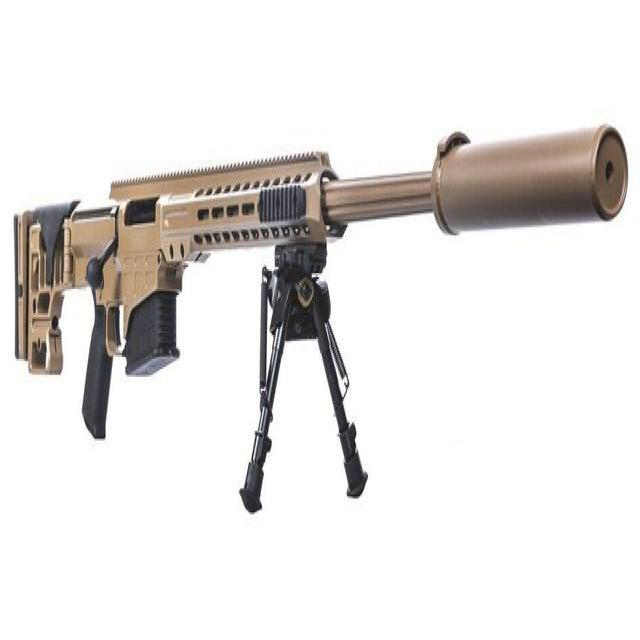Rifle: (11, 126, 632, 514)
